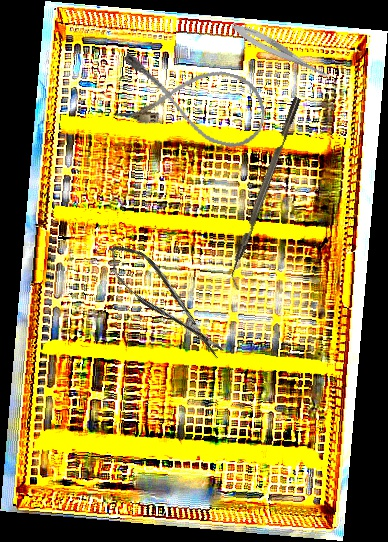Cannula: (109, 47, 274, 154)
Chopper: (222, 96, 311, 291)
Micro Scissor: (98, 232, 232, 371), (228, 19, 337, 84)
